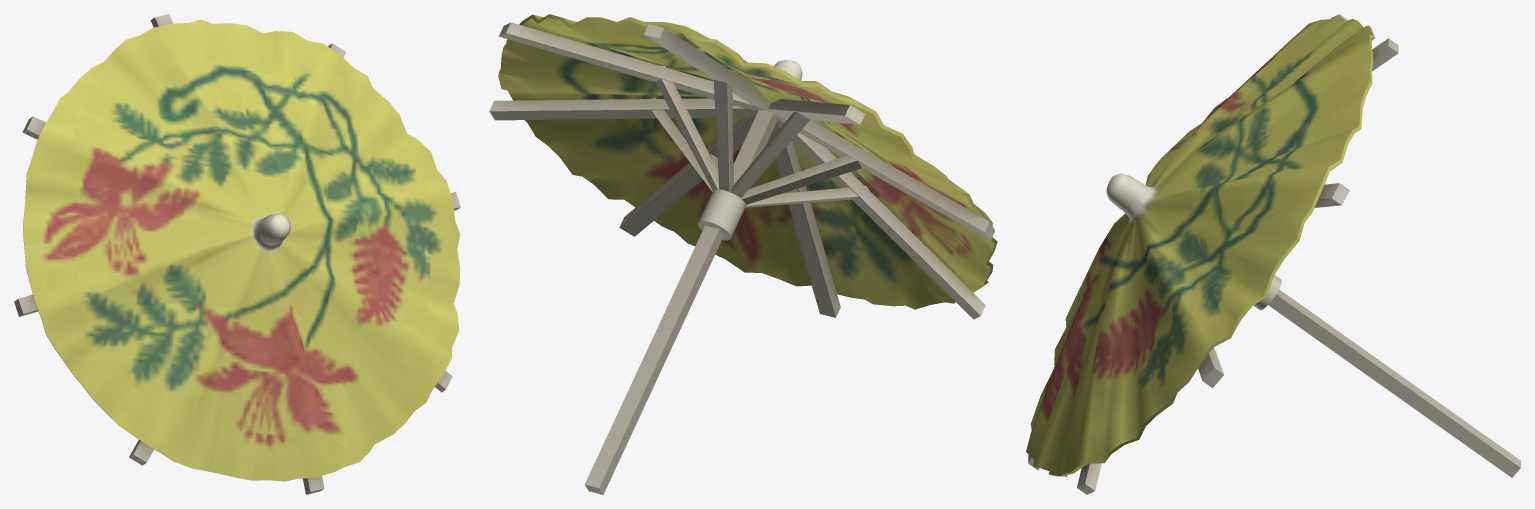
Rendered from GTUmbrella.obj.
The picture shows the model from 3 angles, left to right: view 1: azimuth 30°, elevation 25°; view 2: azimuth 150°, elevation 25°; view 3: azimuth 270°, elevation 25°; orthographic projection. The views are drawn at different scales.
Visible parts, largest first — view 1: xiaozhisan; view 2: xiaozhisan; view 3: xiaozhisan.
Boxes of the visible parts, x1,y1,x2,y2 form: xiaozhisan: (14,14,460,494); xiaozhisan: (489,14,997,494); xiaozhisan: (1026,14,1520,494).
Size of the model in its own units: 1.39 by 1.14 by 1.18.
